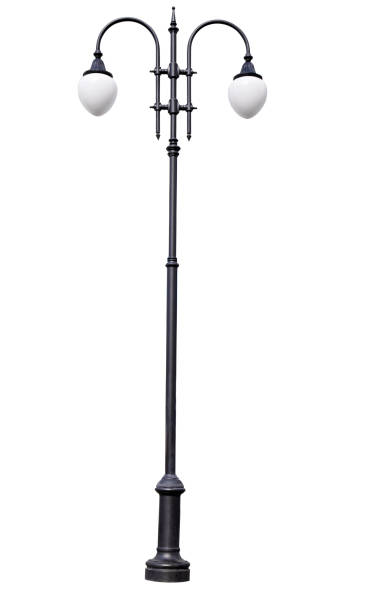light_pole: (149, 145, 190, 573)
